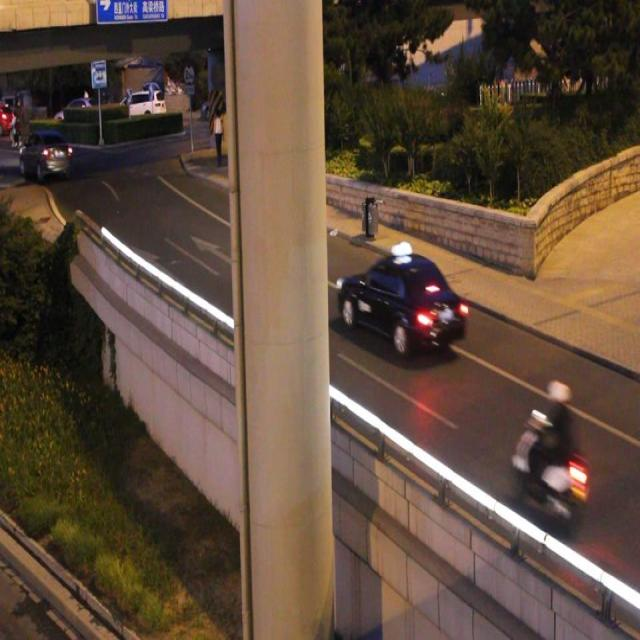car: (339, 257, 464, 355), (20, 132, 70, 176)
